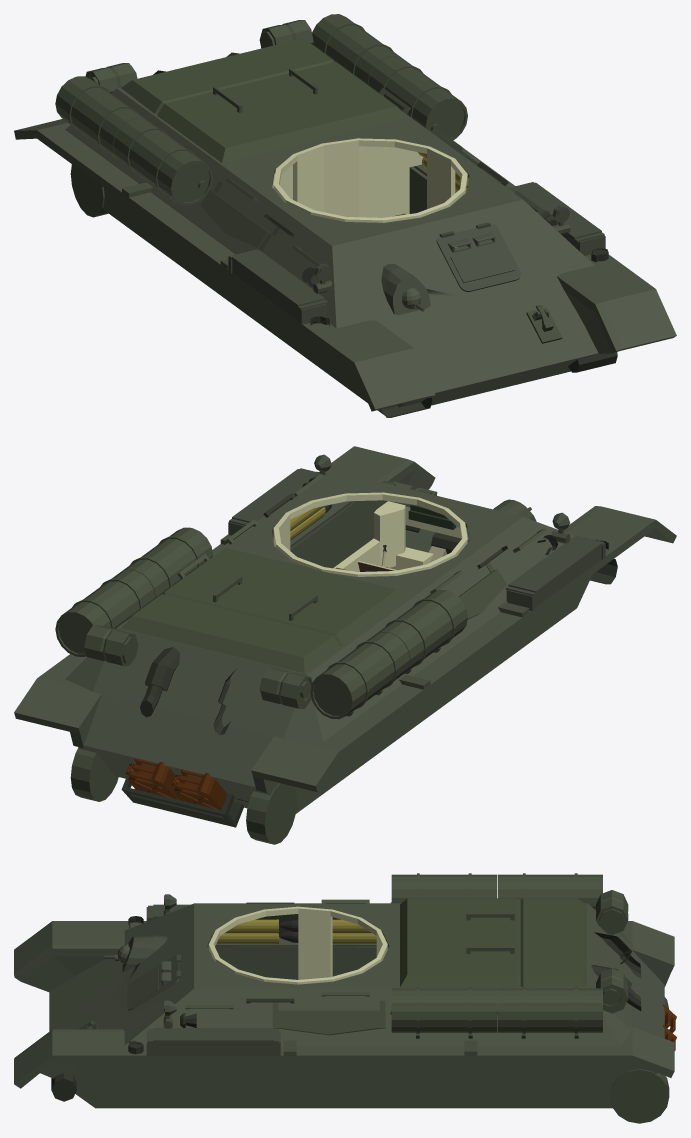
The model's file is T-34_Cuerpo.fbx.
The picture shows the model from 3 angles, top to bottom: view 1: azimuth 30°, elevation 25°; view 2: azimuth 150°, elevation 25°; view 3: azimuth 270°, elevation 25°; orthographic projection. The views are drawn at different scales.
Visible parts, largest first — view 1: Cuerpo; view 2: Cuerpo; view 3: Cuerpo.
Boxes of the visible parts, x1=… form: Cuerpo: x1=14, y1=14, x2=676, y2=417; Cuerpo: x1=14, y1=446, x2=676, y2=844; Cuerpo: x1=14, y1=873, x2=676, y2=1123.
Size of the model in its own units: 123 by 63.52 by 254.
